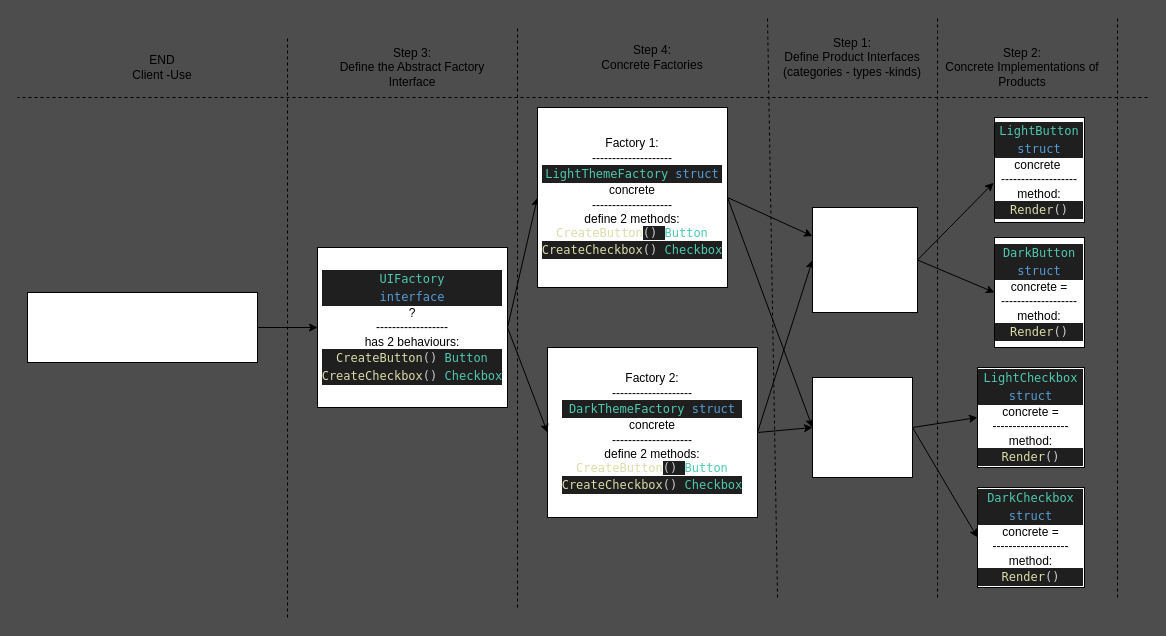
Some shapes in this 1166 by 636 pixel diagram are drawn without their labels. The centre of each missing label's shape, as x and y in pixels:
"Button interface ? --------------------- behaviour: Render ()" goes at point (865, 259).
"Checkbox interface ? --------------------- behaviour: Render ()" goes at point (862, 427).
"Client createUI ( thisFactory UIFactory )" goes at point (142, 327).
